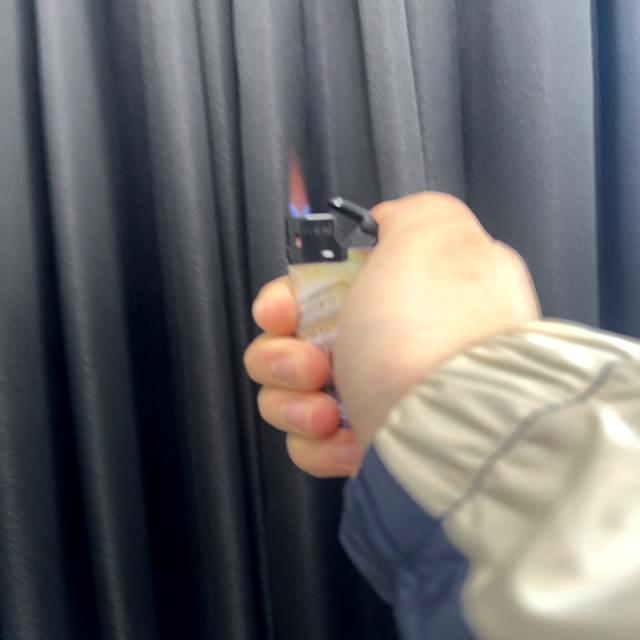fire: (286, 156, 310, 220)
